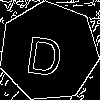D: (24, 27, 66, 77)
